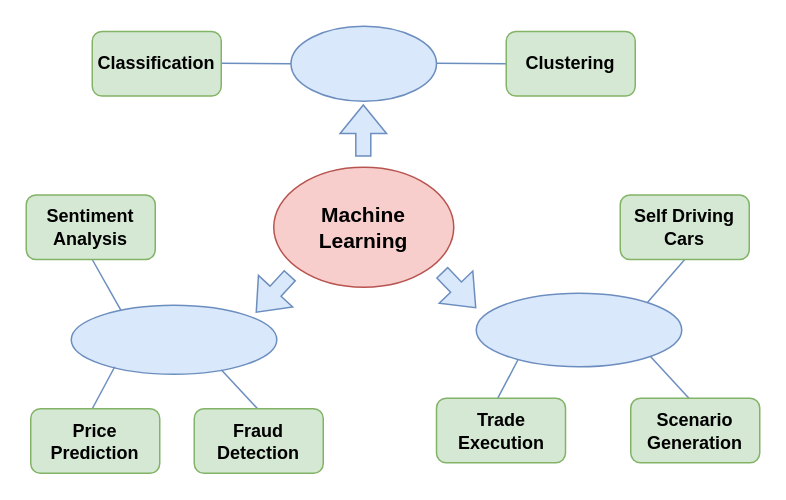
Some shapes in this 786 by 500 pixel diagram are drawn without their labels. Each missing label, with the centre of its shape:
"Reinforcement" belongs at point 578,329.
"Supervised" belongs at point 173,339.
"Unsupervised" belongs at point 363,63.
